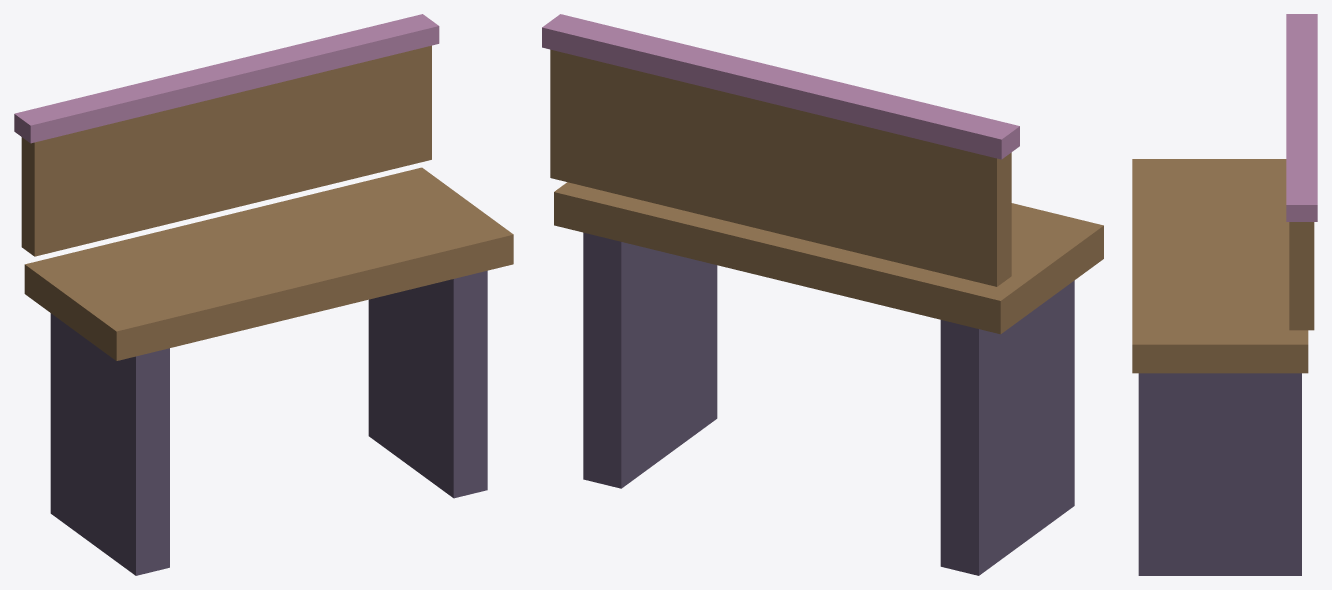
Rendered from bench.glb.
3 views of the same model, side by side, from view 1: azimuth 30°, elevation 25°; view 2: azimuth 150°, elevation 25°; view 3: azimuth 270°, elevation 25° (orthographic). The views are drawn at different scales.
Visible parts, largest first — view 1: city-bench; view 2: city-bench; view 3: city-bench.
Part boxes in pixels (box(x1,y1,x2,y2)): city-bench: box(14, 14, 513, 575); city-bench: box(542, 14, 1103, 575); city-bench: box(1132, 14, 1317, 575).
Bounding box in the file's own units: 0.72 × 0.675 × 0.295.
